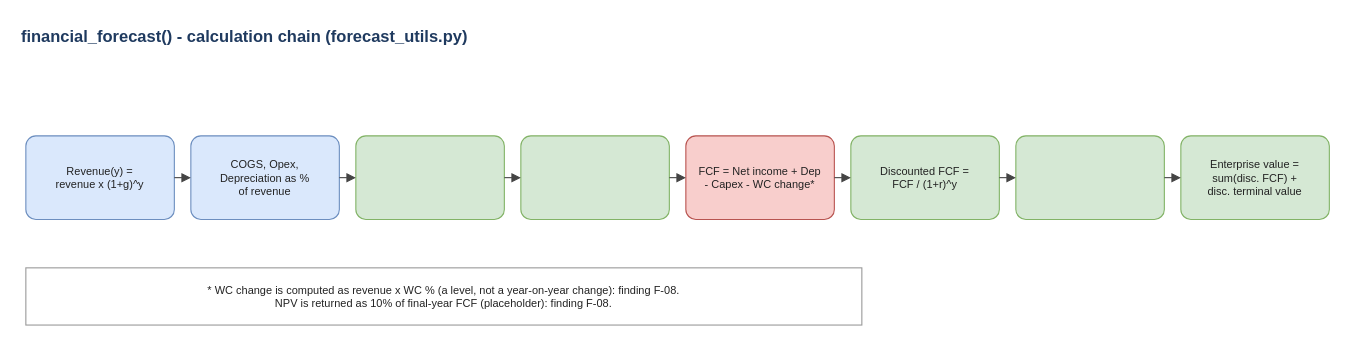
The diagram is 1349 pixels wide and 344 high, and some of its shapes have lost their labels. The shapes that lost their labels are listed below. From the top down, each one's centre as x and y in pixels, then its label:
At pixel 429 177: "EBIT = Revenue - COGS - Opex - Depreciation".
At pixel 594 177: "Net income = EBIT x (1 - tax)".
At pixel 1089 177: "Terminal value = FCF5 x (1+tg)/(r - tg)".
